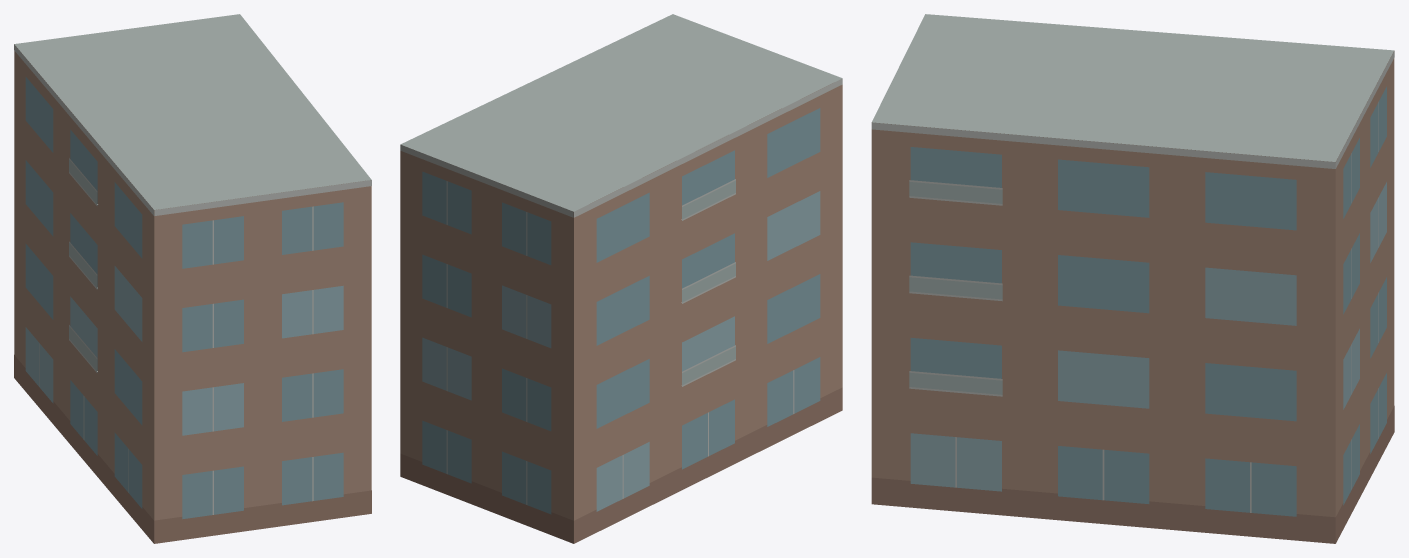
The model's file is survey-upis-32707015.glb.
3 renders of one model, left to right at view 1: azimuth 30°, elevation 25°; view 2: azimuth 150°, elevation 25°; view 3: azimuth 270°, elevation 25°, orthographic. The views are drawn at different scales.
Parts seen in each view (by area): view 1: survey-upis-32707015.tmp; view 2: survey-upis-32707015.tmp; view 3: survey-upis-32707015.tmp.
Part boxes in pixels (x1,y1,x2,y2): survey-upis-32707015.tmp: (14,14,371,543); survey-upis-32707015.tmp: (400,14,842,543); survey-upis-32707015.tmp: (871,14,1394,543).
Size of the model in its own units: 10.99 by 13.2 by 16.39.
